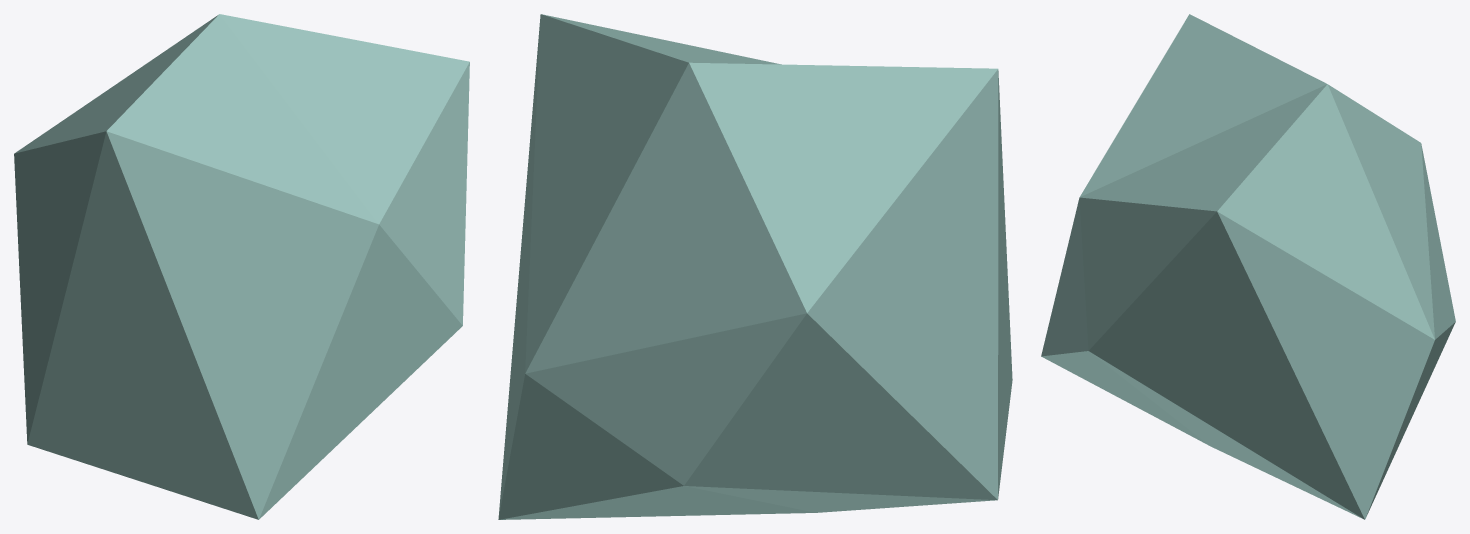
File: 240519_rock_small_01.glb
3 views of the same model, side by side, from view 1: azimuth 30°, elevation 25°; view 2: azimuth 150°, elevation 25°; view 3: azimuth 270°, elevation 25° (orthographic). The views are drawn at different scales.
Parts seen in each view (by area): view 1: Icosphere.022; view 2: Icosphere.022; view 3: Icosphere.022.
Boxes of the visible parts, box(x1,y1,x2,y2) form: Icosphere.022: box(14, 14, 469, 519); Icosphere.022: box(498, 14, 1012, 519); Icosphere.022: box(1041, 14, 1455, 519).
Size of the model in its own units: 1.63 by 1.58 by 1.55.
